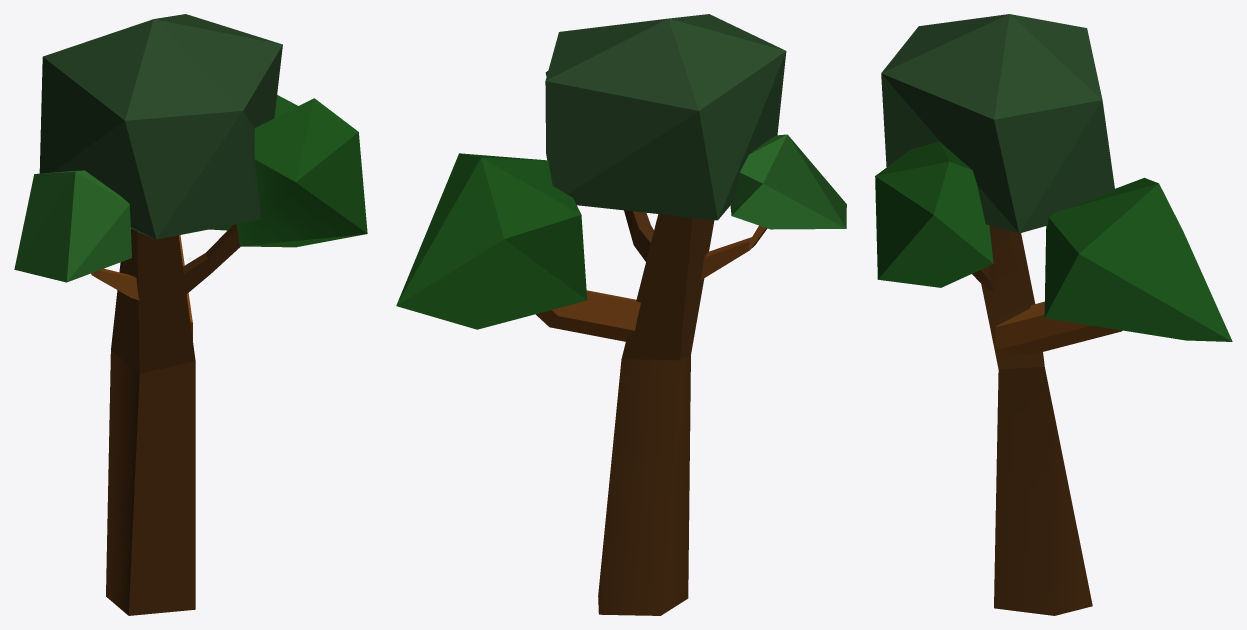
File: env_tree.fbx
The picture shows the model from 3 angles, left to right: view 1: azimuth 30°, elevation 25°; view 2: azimuth 150°, elevation 25°; view 3: azimuth 270°, elevation 25°; orthographic projection. The views are drawn at different scales.
Visible parts, largest first — view 1: leaves (×2), tree, leaves4, branch1, branch2; view 2: leaves (×3), tree, branch, branch2, branch1; view 3: leaves (×2), tree, leaves4, branch.
Part boxes in pixels (x1=…): leaves (×2): x1=14, y1=14, x2=282, y2=282; tree: x1=106, y1=228, x2=195, y2=615; leaves4: x1=236, y1=98, x2=367, y2=247; branch1: x1=183, y1=224, x2=240, y2=293; branch2: x1=91, y1=268, x2=139, y2=300; leaves (×3): x1=396, y1=14, x2=846, y2=329; tree: x1=598, y1=214, x2=714, y2=615; branch: x1=536, y1=290, x2=640, y2=341; branch2: x1=701, y1=225, x2=767, y2=279; branch1: x1=624, y1=210, x2=653, y2=261; leaves (×2): x1=881, y1=14, x2=1232, y2=341; tree: x1=981, y1=225, x2=1092, y2=615; leaves4: x1=875, y1=141, x2=993, y2=287; branch: x1=995, y1=301, x2=1122, y2=355.
Size of the model in its own units: 820 by 1355 by 760.
Materials: 1 (1 with a texture image).
